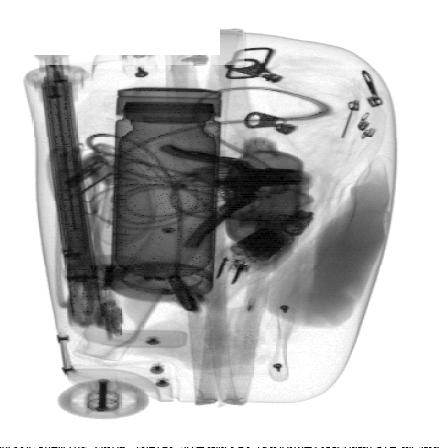Pliers: (156, 144, 302, 251)
